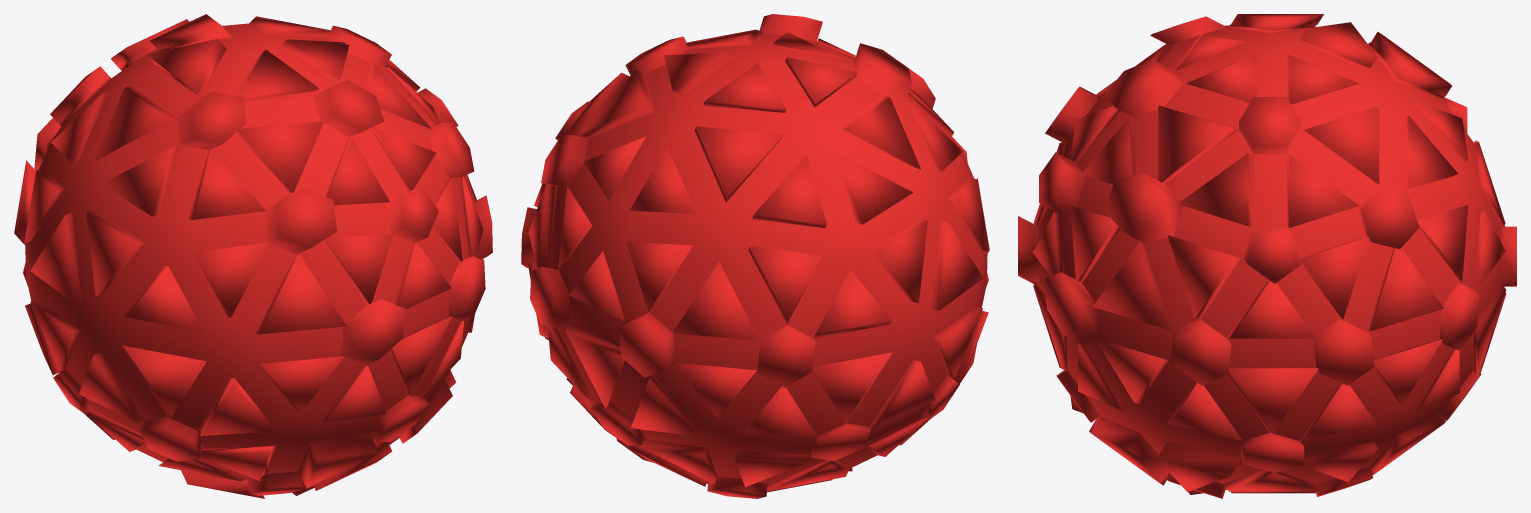
The model's file is ball-obstacle_3.fbx.
3 renders of one model, left to right at view 1: azimuth 30°, elevation 25°; view 2: azimuth 150°, elevation 25°; view 3: azimuth 270°, elevation 25°, orthographic. The views are drawn at different scales.
Parts seen in each view (by area): view 1: ball-obstacle; view 2: ball-obstacle; view 3: ball-obstacle.
Part boxes in pixels (x1,y1,x2,y2): ball-obstacle: [14, 14, 492, 498]; ball-obstacle: [521, 14, 989, 498]; ball-obstacle: [1018, 14, 1516, 498].
Size of the model in its own units: 64.18 by 65.59 by 66.12.
